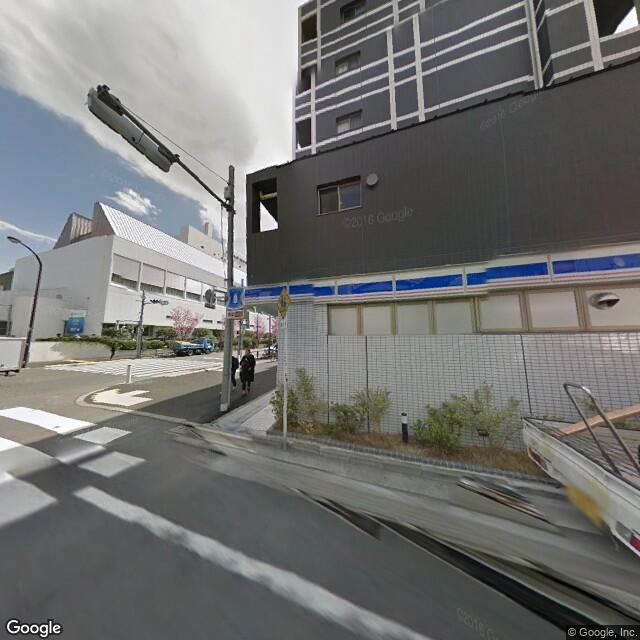lawson: (246, 241, 638, 310), (225, 283, 246, 313)
